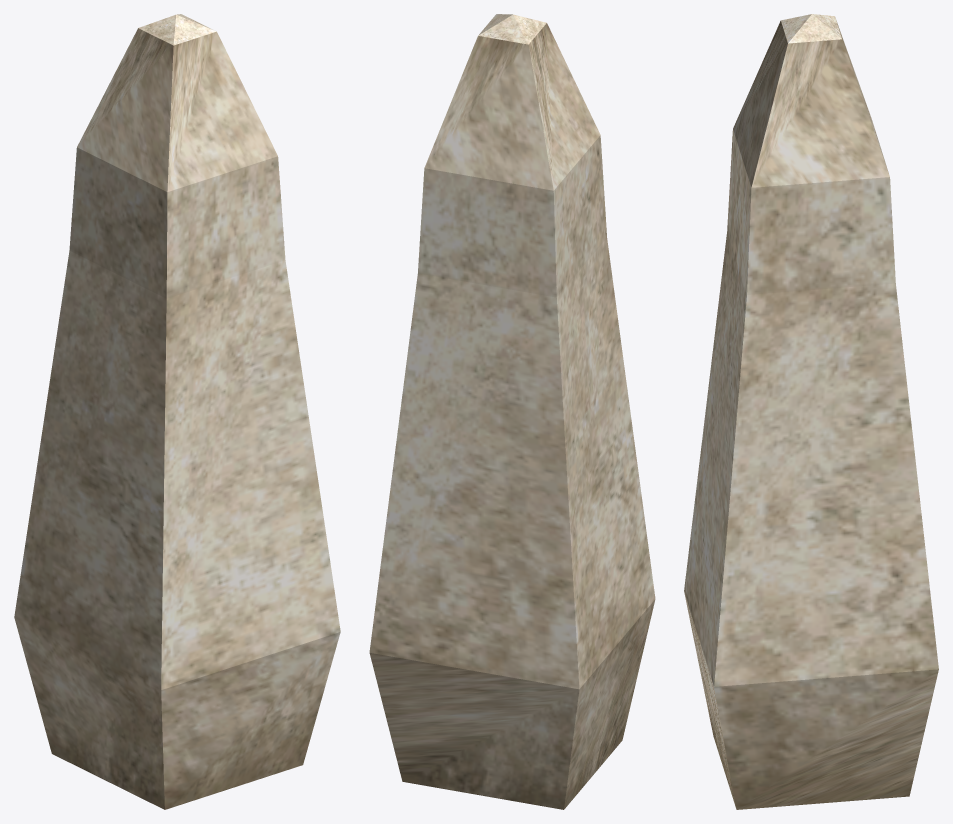
The model's file is thm_tato_jnkshp_pillar_l2.fbx.
3 renders of one model, left to right at view 1: azimuth 30°, elevation 25°; view 2: azimuth 150°, elevation 25°; view 3: azimuth 270°, elevation 25°, orthographic.
Parts seen in each view (by area): view 1: mesh_node; view 2: mesh_node; view 3: mesh_node.
Part boxes in pixels (<box>): mesh_node: <box>14,14,340,809</box>; mesh_node: <box>369,14,655,809</box>; mesh_node: <box>684,14,938,809</box>.
Bounding box in the file's own units: 1.76 × 5.45 × 1.67.
